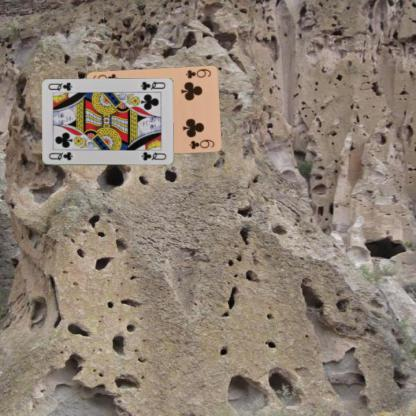6c: (183, 66, 212, 80)
Qc: (138, 79, 166, 92), (46, 150, 74, 162)
